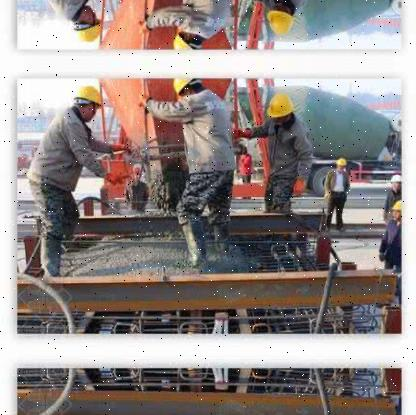helmet: (73, 80, 106, 120), (73, 6, 106, 46), (169, 74, 210, 101), (169, 26, 210, 53), (267, 0, 296, 38), (268, 89, 296, 128), (391, 198, 403, 224), (391, 171, 402, 196), (338, 155, 349, 172)
